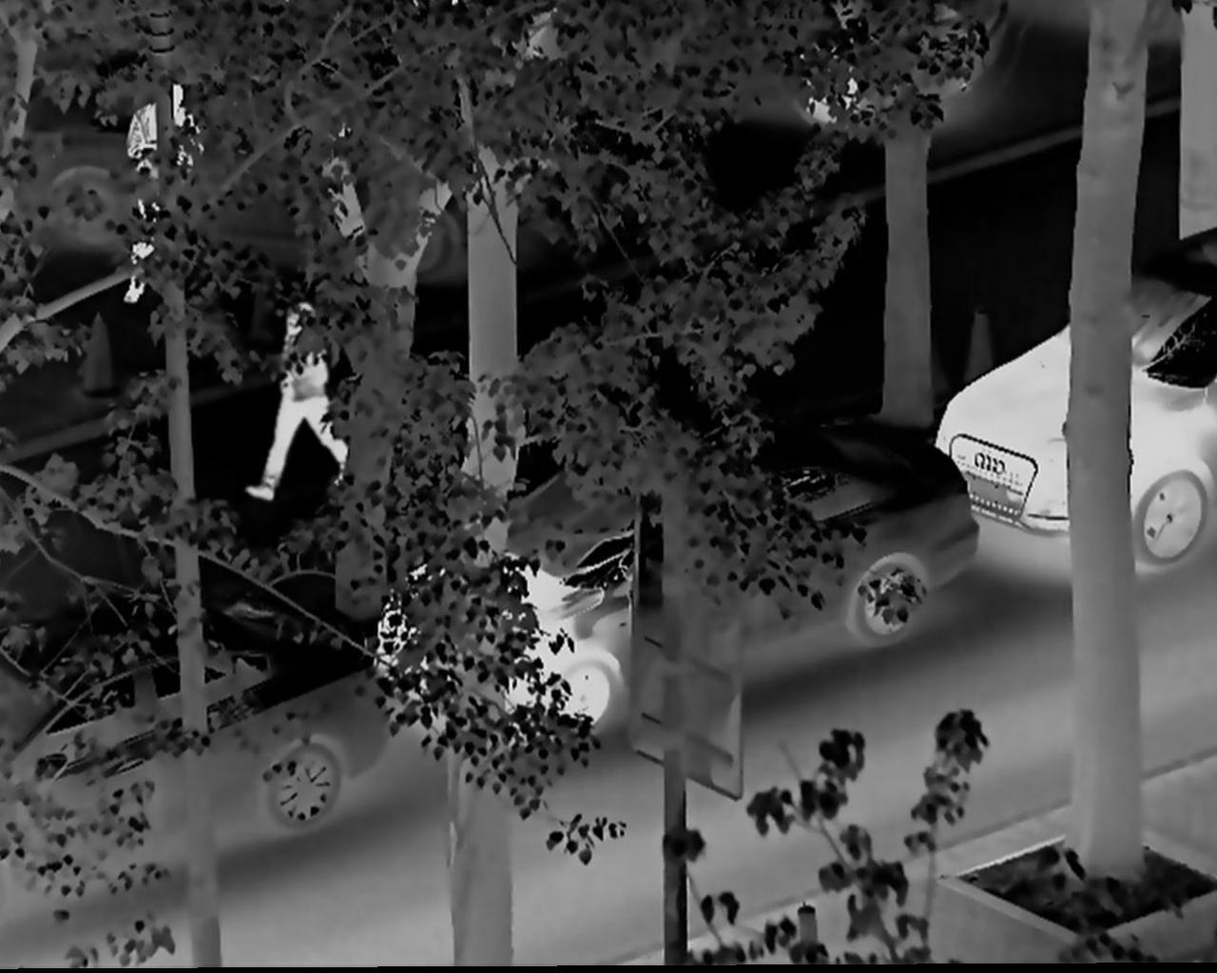person: (240, 292, 350, 501), (120, 81, 210, 307)
